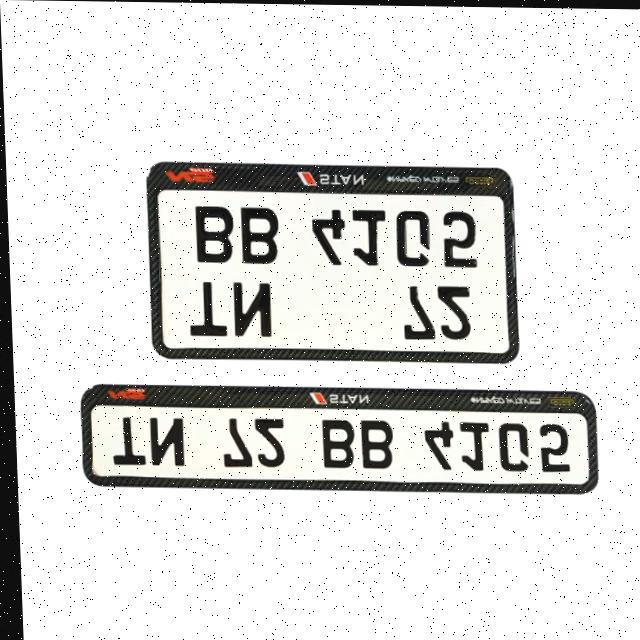plate: (142, 163, 517, 363), (71, 384, 595, 494)
